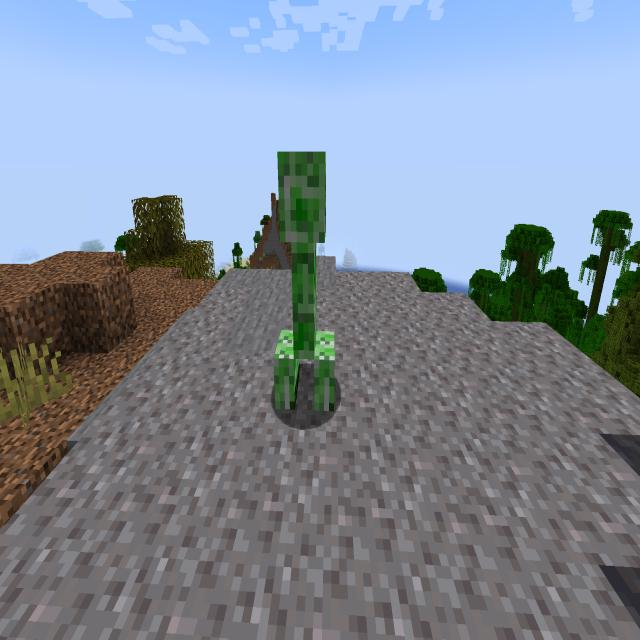Creeper: (260, 137, 348, 441)
